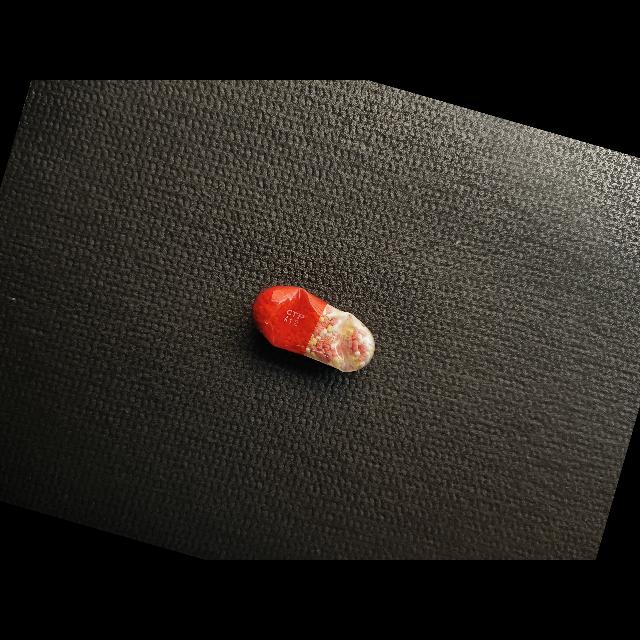Defective Capsule: (252, 286, 375, 373)
